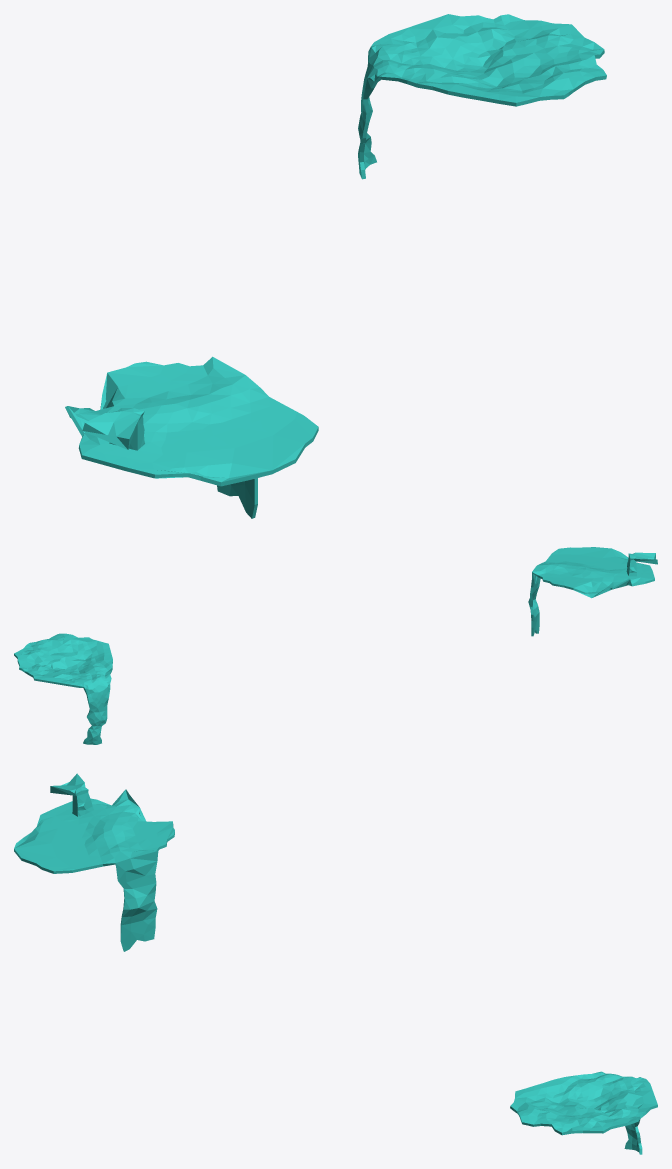
The model's file is water.glb.
The picture shows the model from 3 angles, top to bottom: view 1: azimuth 30°, elevation 25°; view 2: azimuth 150°, elevation 25°; view 3: azimuth 270°, elevation 25°; orthographic projection. The views are drawn at different scales.
Visible parts, largest first — view 1: water.001, water.002, water; view 2: water.002, water.001, water; view 3: water.001, water.002, water.
Part boxes in pixels (x1,y1,x2,y2): water.001: (65,356,318,518); water.002: (358,14,606,179); water: (82,408,144,450); water.002: (14,633,112,744); water.001: (528,547,654,636); water: (626,552,657,576); water.001: (14,789,174,951); water.002: (510,1071,657,1154); water: (50,773,93,816).
Bounding box in the file's own units: 732 × 182 × 698.
